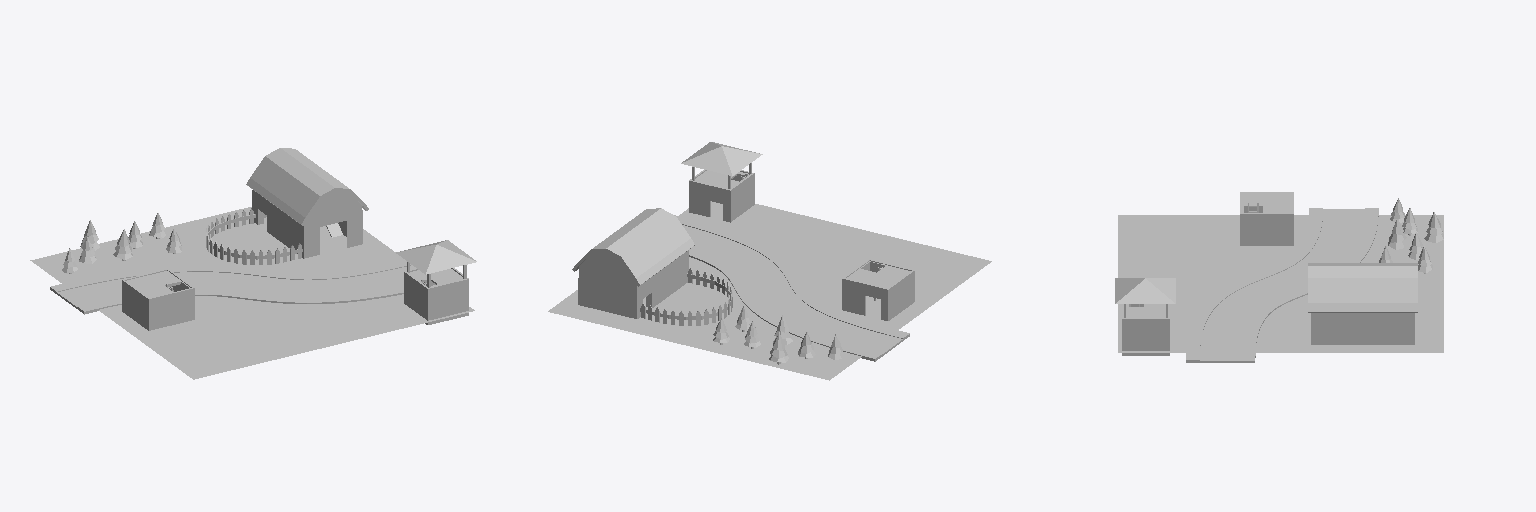
File: full_starting_map (4).obj
3 renders of one model, left to right at view 1: azimuth 30°, elevation 25°; view 2: azimuth 150°, elevation 25°; view 3: azimuth 270°, elevation 25°, orthographic.
Visible parts, largest first — view 1: Plane, Road, Barn, Cone, Building1, Barn_Fence; view 2: Plane, Road, Barn, Cone, Building1, Barn_Fence; view 3: Plane, Road, Barn, Cone, Building1.
Part boxes in pixels (x1,y1,x2,y2): Plane: (30,207,474,379); Road: (50,260,415,314); Barn: (246,148,368,258); Cone: (396,240,476,324); Building1: (122,269,194,330); Barn_Fence: (206,208,302,264); Plane: (548,201,991,380); Road: (674,215,909,361); Barn: (572,208,694,318); Cone: (681,142,762,222); Building1: (842,259,914,320); Barn_Fence: (640,268,732,325); Plane: (1118,215,1443,352); Road: (1186,208,1378,362); Barn: (1308,263,1417,344); Cone: (1115,278,1175,355); Building1: (1240,192,1293,245).
Bounding box in the file's own units: 65.84 × 14.14 × 59.84.